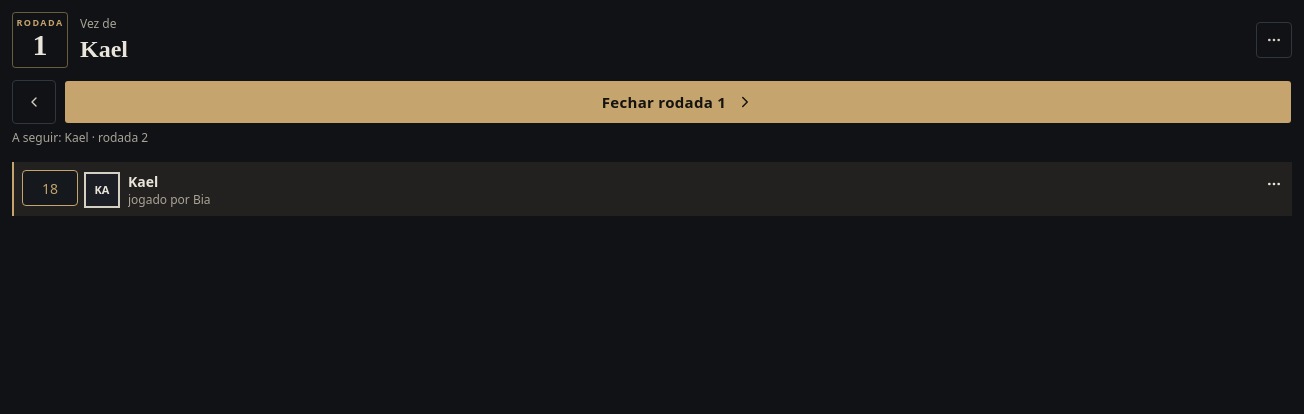
Test: CombatPanel › adding in the middle of the fight › "Adicionar" sends one combat:addCombatants with the initiatives
This screenshot has width=1304, height=414.
Click the button named "Mais opções do combate" at [1274, 40], box 1256,22 -> 1292,58
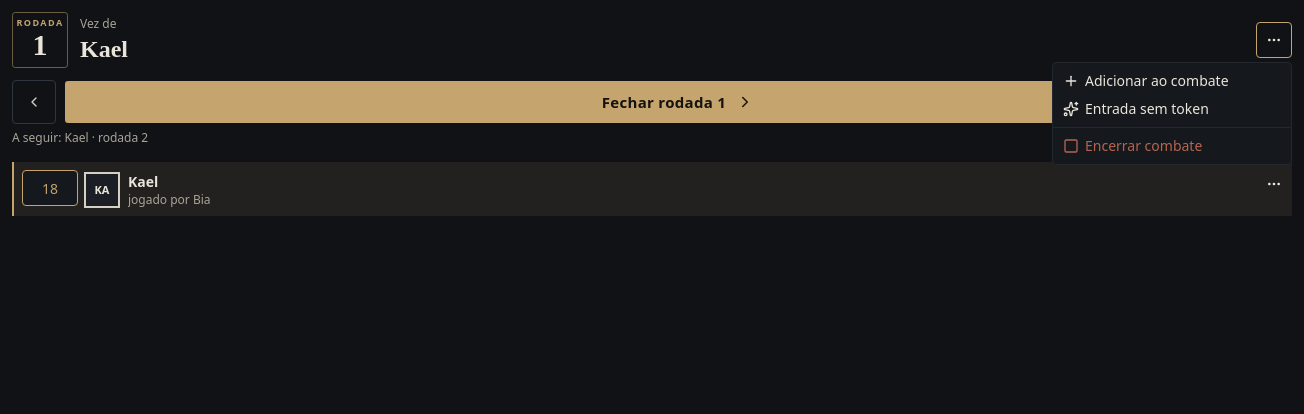
Click the menu item "Adicionar ao combate" at [1146, 80], box 1063,71 -> 1229,90
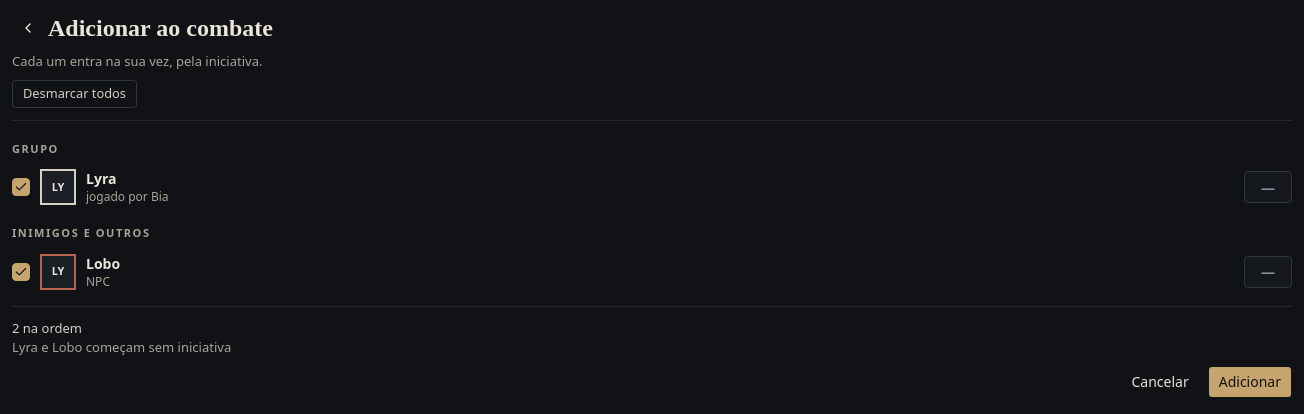
Type "12" into the field named "Iniciativa de Lobo" at [1268, 272], box 1244,256 -> 1292,288
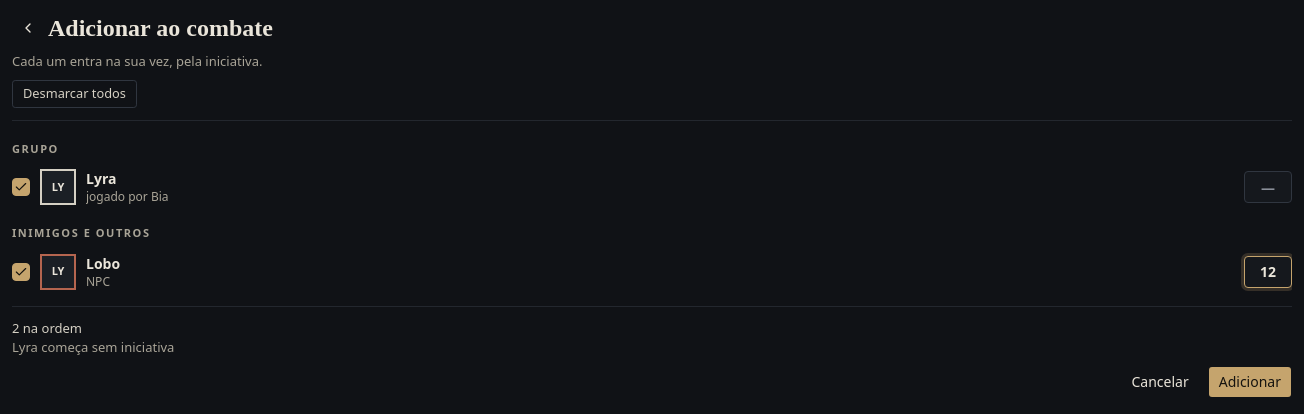
Click the checkbox named "Incluir Lyra" at [21, 187], box 12,178 -> 30,196
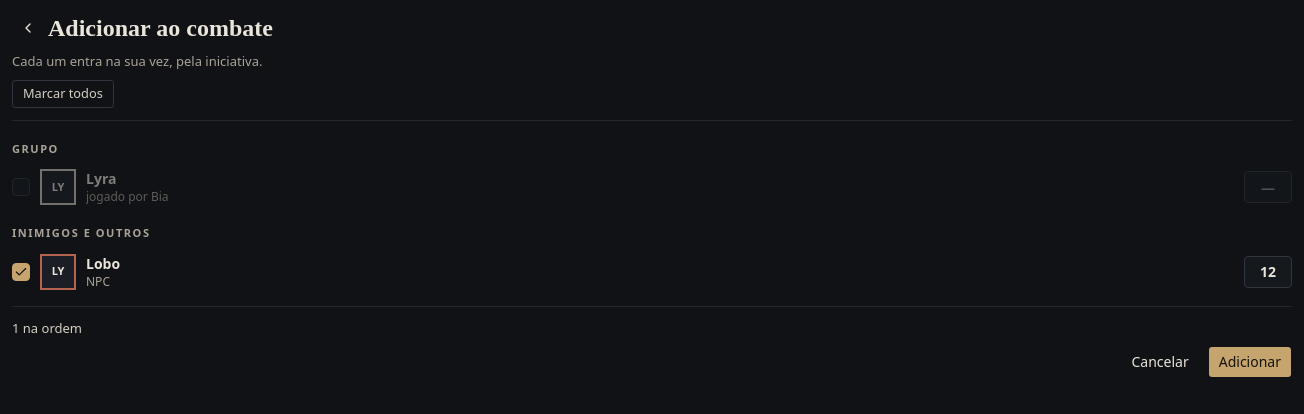
Click the button "Adicionar" at [1250, 362], box 1208,346 -> 1292,378
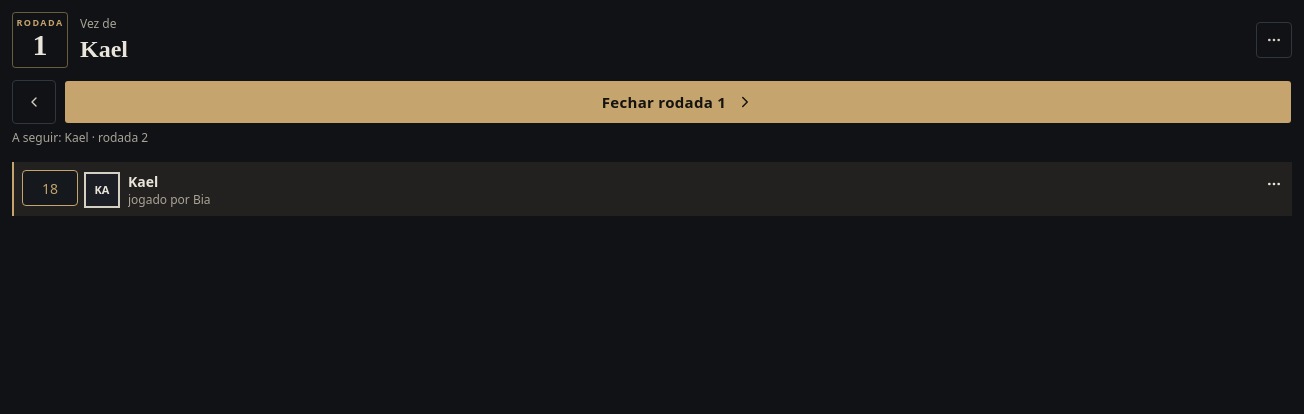
Result: the heading "Adicionar ao combate" is gone
